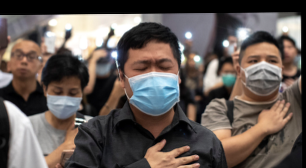with_mask: (124, 55, 179, 115), (238, 50, 283, 99), (44, 83, 83, 121), (96, 61, 113, 79), (221, 66, 236, 86)
without_mask: (10, 46, 40, 80), (281, 41, 297, 66)
